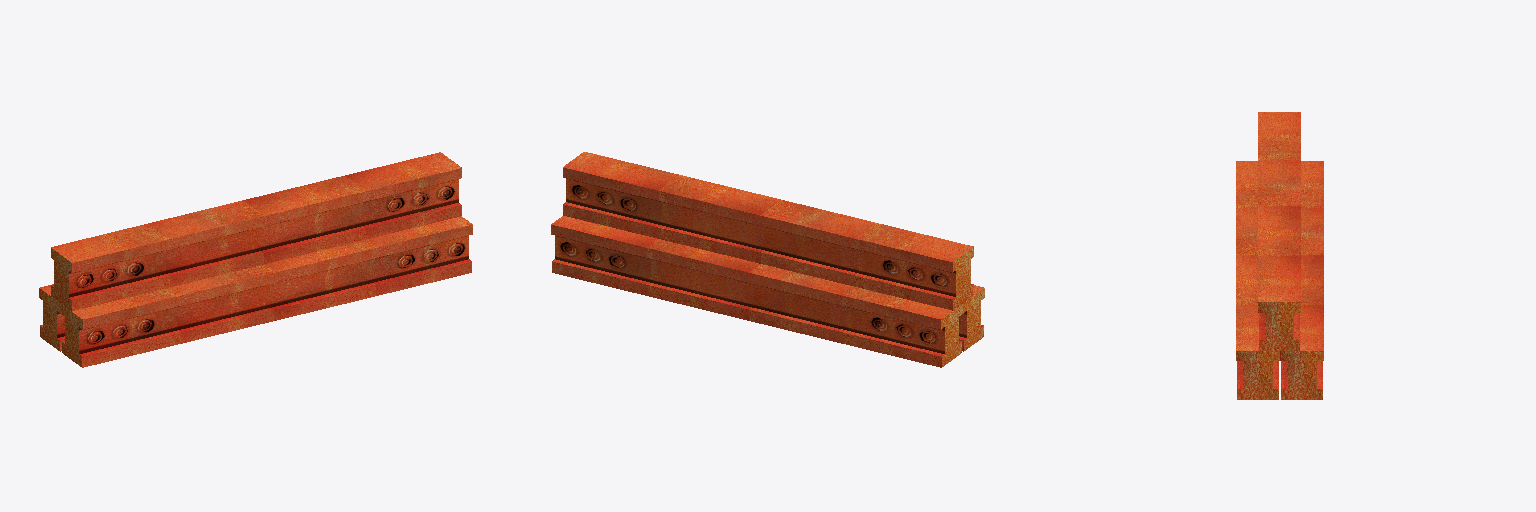
The picture shows the model from 3 angles: view 1: azimuth 30°, elevation 25°; view 2: azimuth 150°, elevation 25°; view 3: azimuth 270°, elevation 25°; orthographic projection.
Size of the model in its own units: 16.97 by 4.05 by 3.29.
Materials: 1 (1 with a texture image).